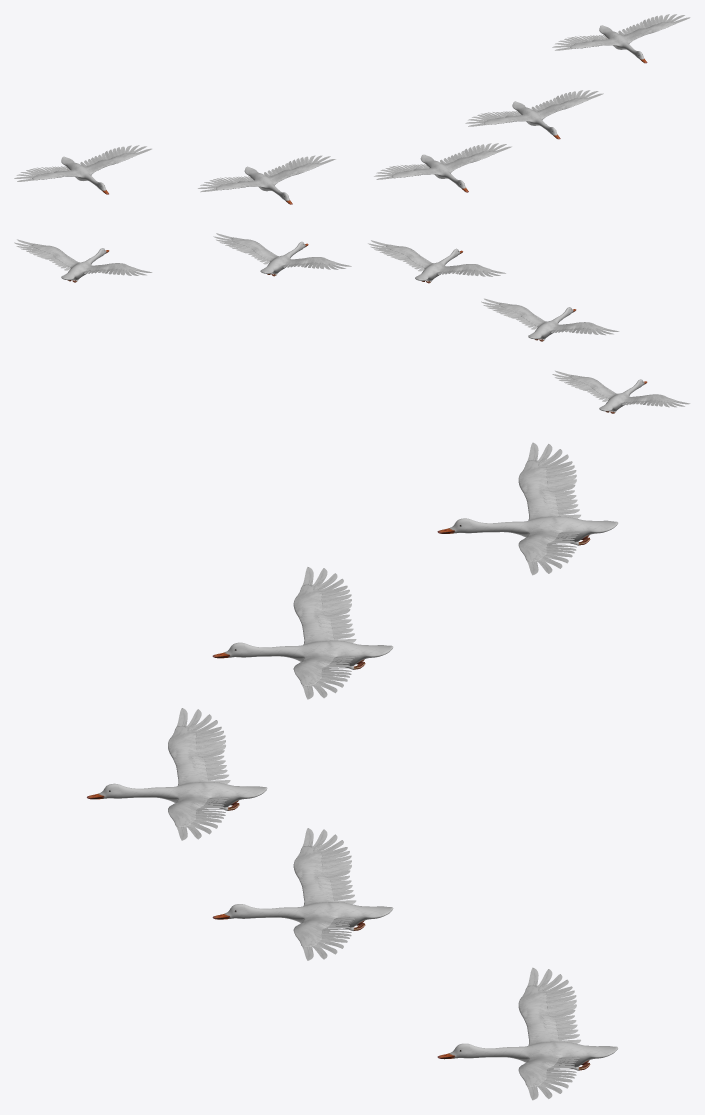
The model's file is camadagansos.glb.
The picture shows the model from 3 angles, top to bottom: view 1: azimuth 30°, elevation 25°; view 2: azimuth 150°, elevation 25°; view 3: azimuth 270°, elevation 25°; orthographic projection. The views are drawn at different scales.
Parts seen in each view (by area): view 1: ganso.002, ganso.004, ganso.001, ganso, ganso.003; view 2: ganso.003, ganso.001, ganso.004, ganso, ganso.002; view 3: ganso.001, ganso.004, ganso.003, ganso, ganso.002.
Boxes of the visible parts, <box> form: ganso.002: <box>465,90,603,139</box>; ganso.004: <box>552,14,690,63</box>; ganso.001: <box>198,155,335,204</box>; ganso: <box>374,143,511,192</box>; ganso.003: <box>14,145,151,194</box>; ganso.003: <box>552,370,690,413</box>; ganso.001: <box>481,298,619,341</box>; ganso.004: <box>14,239,152,282</box>; ganso: <box>368,240,505,283</box>; ganso.002: <box>213,233,351,276</box>; ganso.001: <box>212,567,393,699</box>; ganso.004: <box>437,967,617,1100</box>; ganso.003: <box>437,442,617,575</box>; ganso: <box>87,708,267,840</box>; ganso.002: <box>212,828,393,960</box>.
Size of the model in its own units: 746 by 17.8 by 255.
5 materials, 5 textured.
